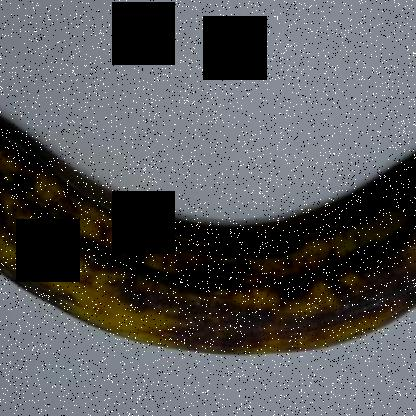overripe: (1, 87, 415, 382)
